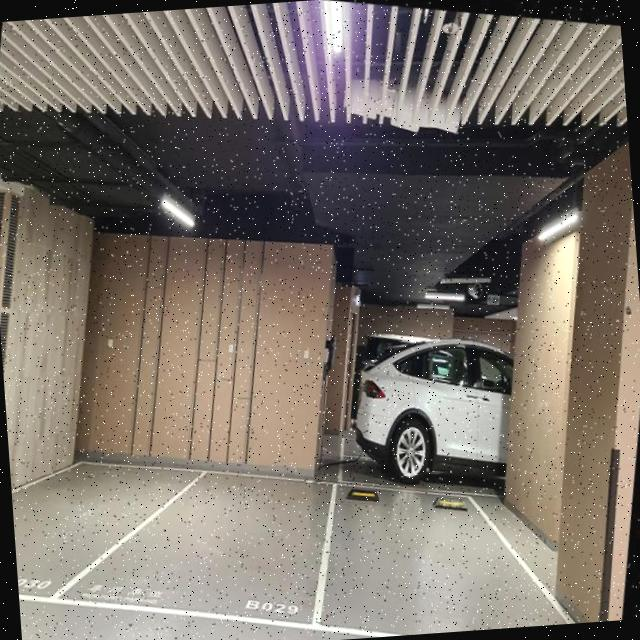empty: (316, 465, 566, 640), (154, 456, 343, 629), (8, 438, 140, 610)
